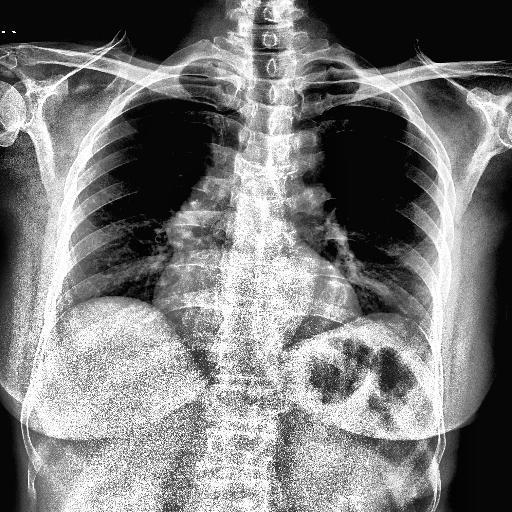0- Aortic enlargement: (248, 126, 330, 211), (269, 128, 331, 196), (276, 131, 330, 179)
3- Cardiomegaly: (147, 255, 362, 331), (150, 280, 364, 348)
7- Lung Opacity: (164, 152, 232, 248)
9- Other lesion: (164, 152, 232, 248)
